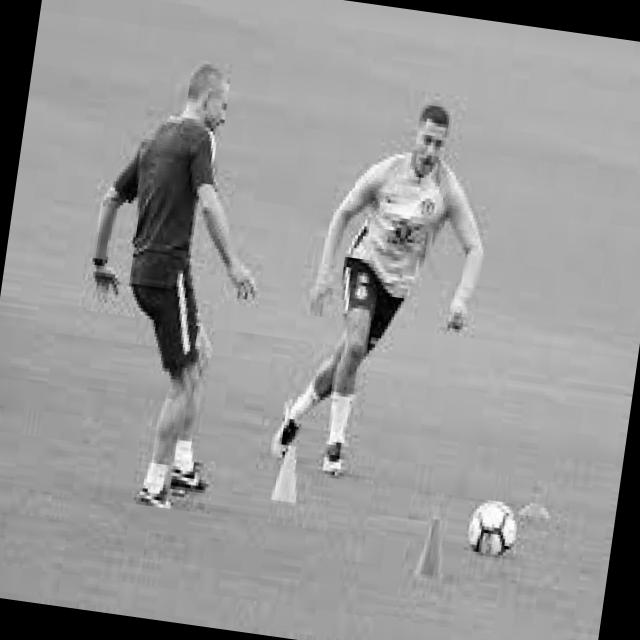football: (462, 496, 524, 564)
